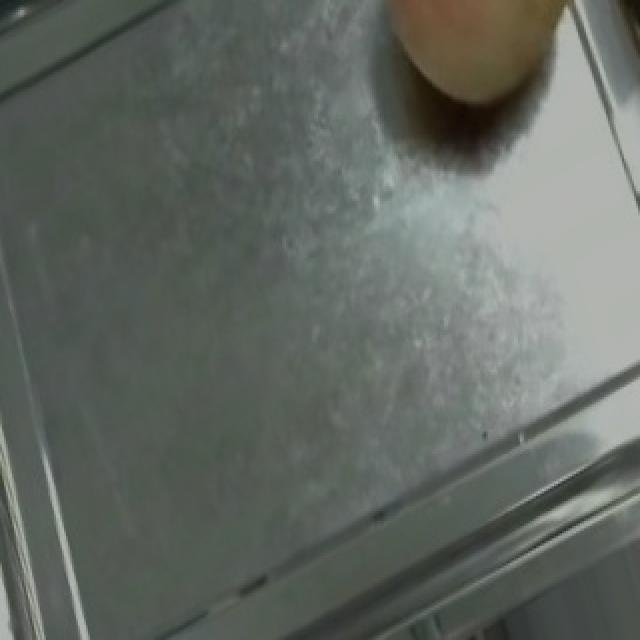Fruit: (342, 0, 606, 146)
